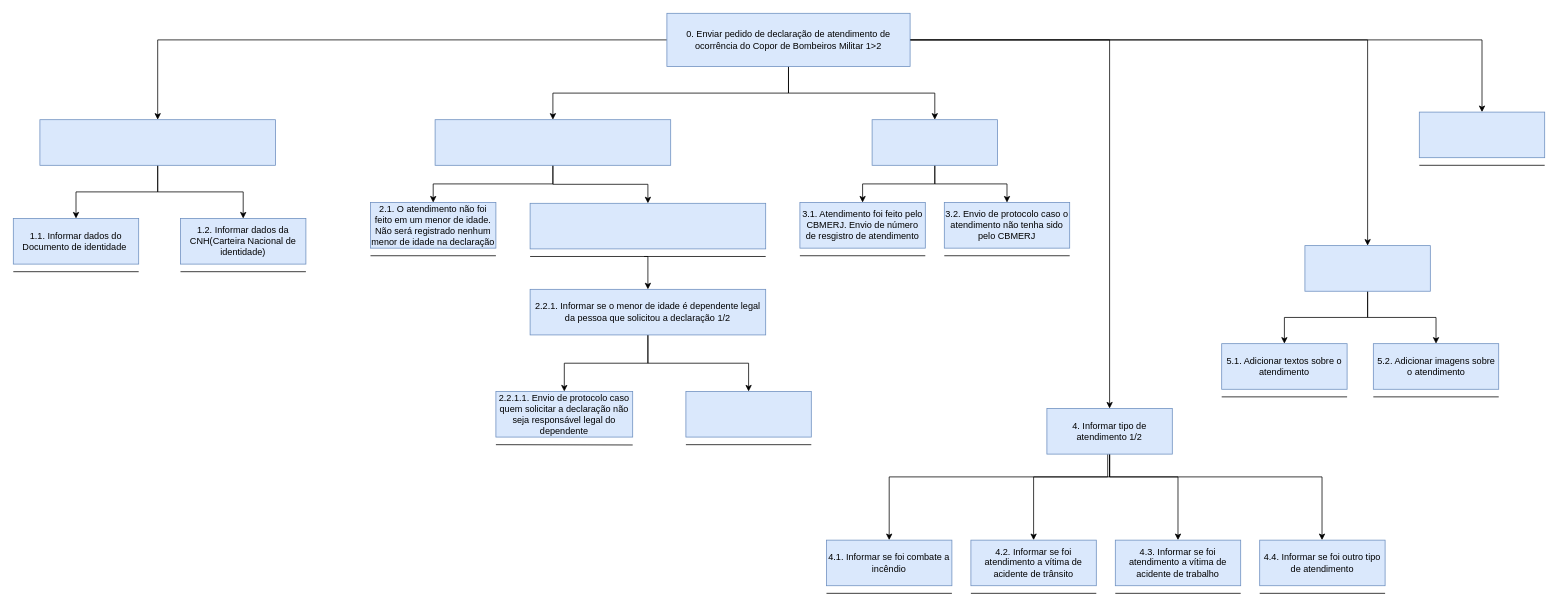
Image size: 1559x608. Some labels were removed from this diagram. The shapes that lost their labels are listed below. From the top down, each one's centre as x and y in pixels, then its label:
the point at 157,142: 1. Informar os dados da pessoa que solicitou a declaração 1/2
the point at 552,142: 2. Informar se o atendimento foi feito em um menor de idade 1/2
the point at 934,142: 3. Informar se o atendimento foi feito pelo CBMERJ 1/2
the point at 1482,134: 6. Envio de pedido de declaração
the point at 647,226: 2.2. O atendimento foi feito em um menor de idade
the point at 1367,268: 5. Informar descrição do atendimento 1+2
the point at 748,414: 2.2.1.2 Envio da certidão de nacimento do dependente do responsável legal
